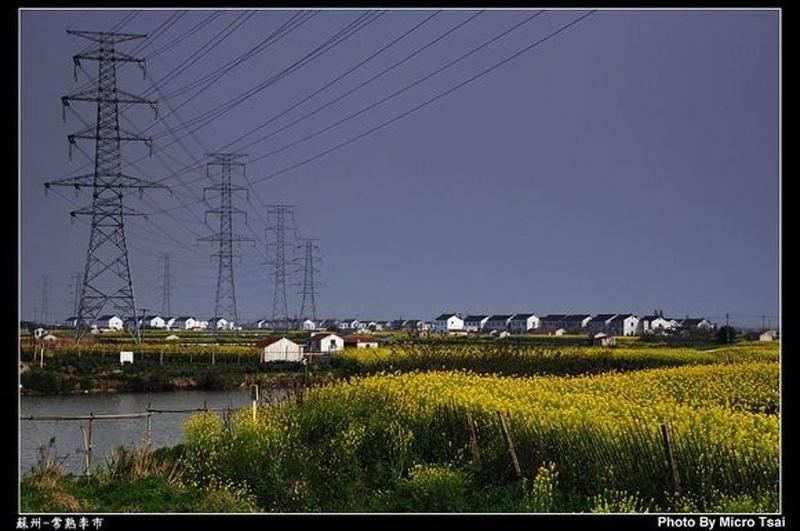power_tower: (47, 16, 158, 334), (194, 139, 249, 331), (259, 198, 298, 329)
